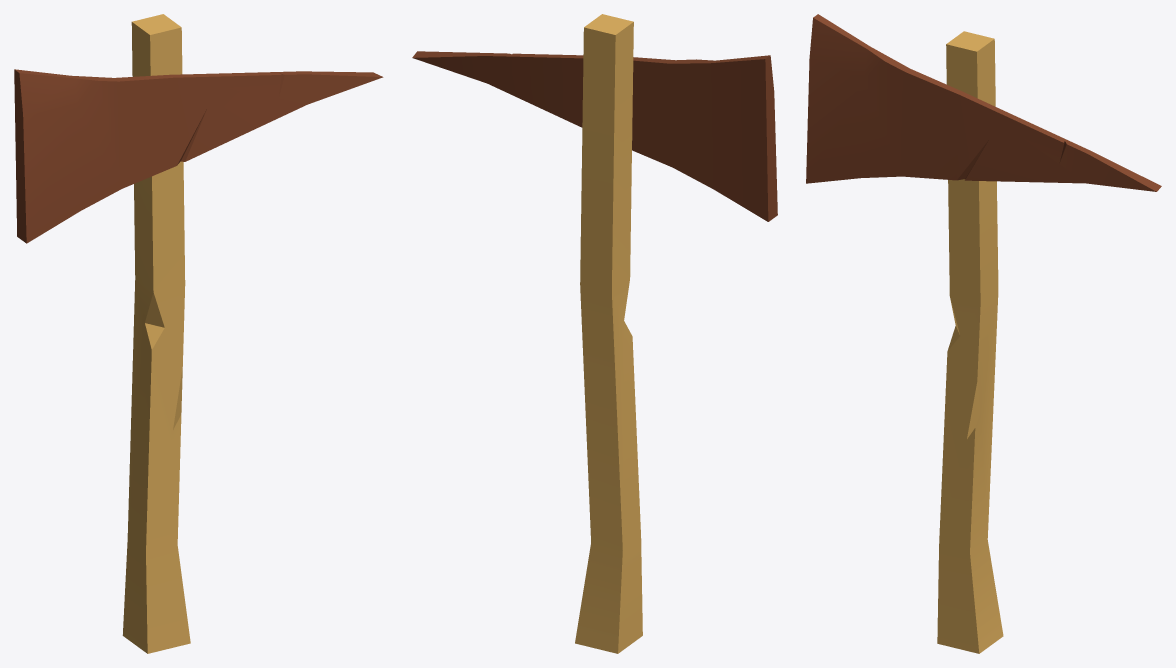
The model's file is placa01.fbx.
The picture shows the model from 3 angles, left to right: view 1: azimuth 30°, elevation 25°; view 2: azimuth 150°, elevation 25°; view 3: azimuth 330°, elevation 25°; orthographic projection. The views are drawn at different scales.
Visible parts, largest first — view 1: PLACA 01; view 2: PLACA 01; view 3: PLACA 01.
Boxes of the visible parts, x1,y1,x2,y2 form: PLACA 01: [14, 14, 383, 653]; PLACA 01: [412, 14, 777, 653]; PLACA 01: [806, 14, 1161, 653].
Size of the model in its own units: 64.18 by 105 by 9.88.
